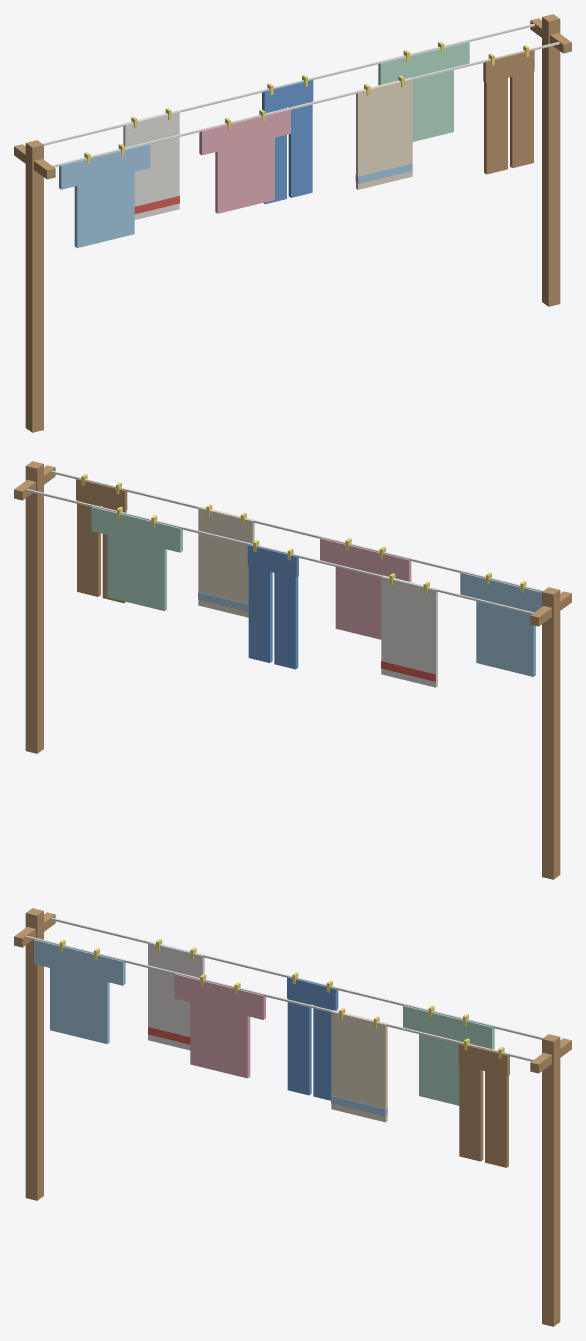
The model's file is prop_clothesline_01.glb.
3 views of the same model, one above another, from view 1: azimuth 30°, elevation 25°; view 2: azimuth 150°, elevation 25°; view 3: azimuth 330°, elevation 25° (orthographic).
Parts seen in each view (by area): view 1: prop_clothesline_01_body; view 2: prop_clothesline_01_body; view 3: prop_clothesline_01_body.
Part boxes in pixels (x1,y1,x2,y2): prop_clothesline_01_body: (14, 14, 571, 432); prop_clothesline_01_body: (14, 461, 571, 879); prop_clothesline_01_body: (14, 908, 571, 1326).
Bounding box in the file's own units: 3.68 × 1.9 × 0.4.
